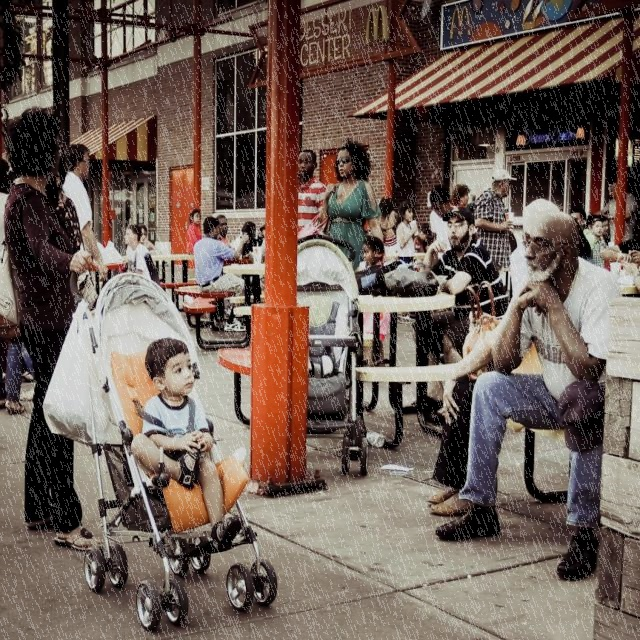pessoa: (430, 204, 630, 583), (425, 196, 561, 516), (127, 333, 246, 552), (420, 205, 510, 404), (318, 136, 386, 274), (60, 143, 110, 284), (191, 215, 250, 333), (354, 235, 392, 367), (472, 167, 518, 272), (390, 200, 422, 326), (297, 148, 329, 239), (428, 183, 462, 263), (596, 180, 638, 243), (235, 220, 262, 305), (409, 220, 437, 292), (122, 223, 156, 281), (376, 194, 401, 258), (446, 182, 476, 226), (582, 218, 608, 268), (598, 232, 640, 262), (184, 206, 203, 256), (136, 222, 156, 254), (213, 213, 230, 244), (568, 207, 592, 228), (259, 220, 266, 249), (604, 220, 612, 232)
